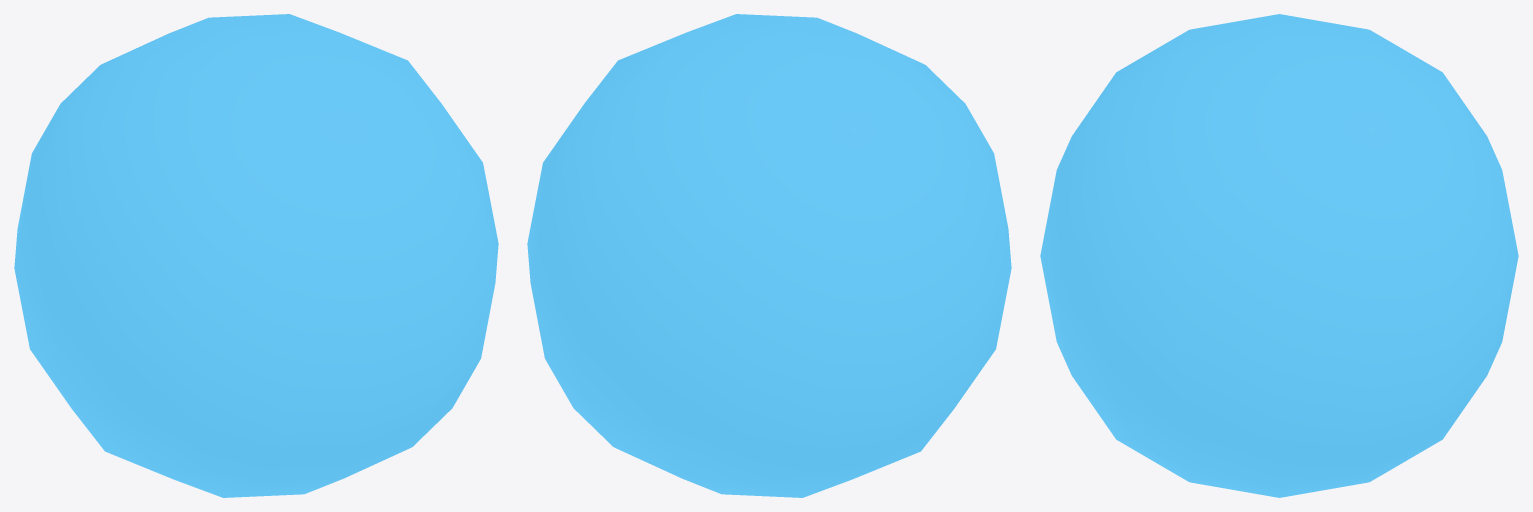
The model's file is Stars.glb.
3 views of the same model, side by side, from view 1: azimuth 30°, elevation 25°; view 2: azimuth 150°, elevation 25°; view 3: azimuth 270°, elevation 25° (orthographic).
Parts seen in each view (by area): view 1: Dots_Depth; view 2: Dots_Depth; view 3: Dots_Depth.
Boxes of the visible parts, x1,y1,x2,y2 form: Dots_Depth: [14, 14, 498, 497]; Dots_Depth: [527, 14, 1011, 497]; Dots_Depth: [1040, 14, 1518, 497].
Size of the model in its own units: 2411 by 2411 by 2411.
Materials: 1 (1 with a texture image).
